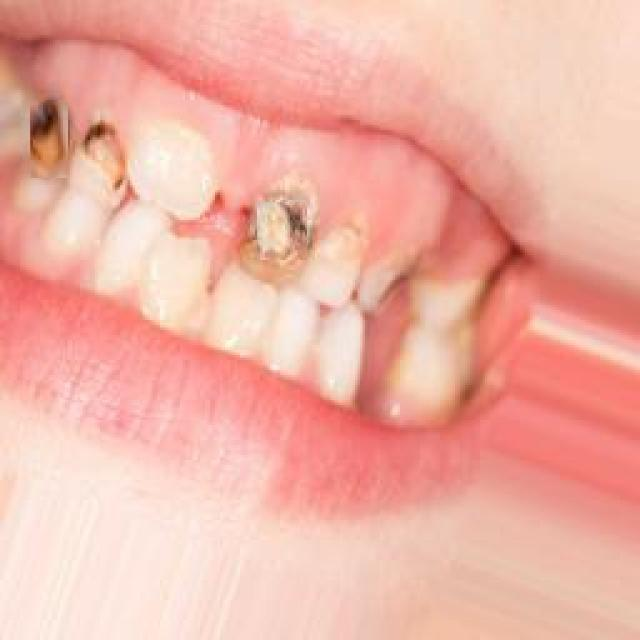decay: (258, 202, 308, 260), (30, 102, 68, 178), (80, 123, 122, 183)
